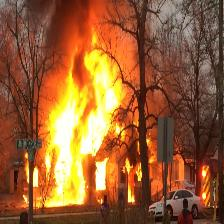fire: (63, 86, 106, 197)
